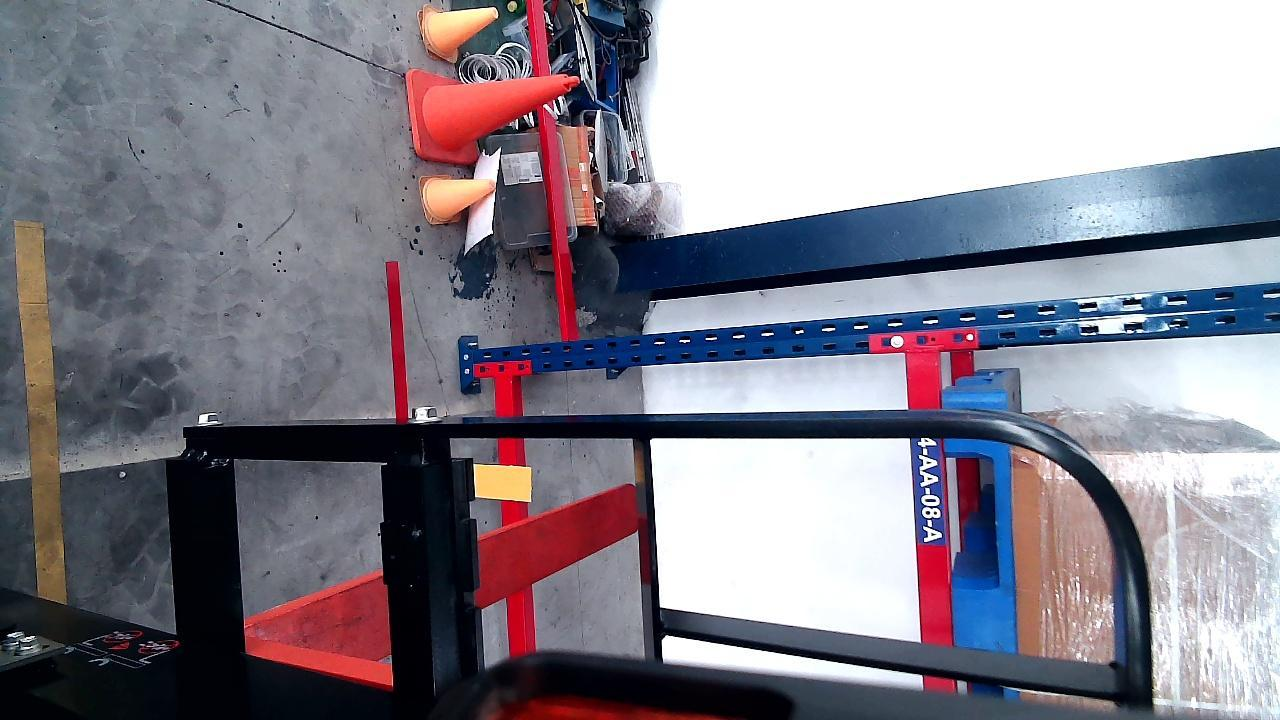red_line: (384, 254, 414, 417)
yellow_line: (14, 218, 62, 597)
